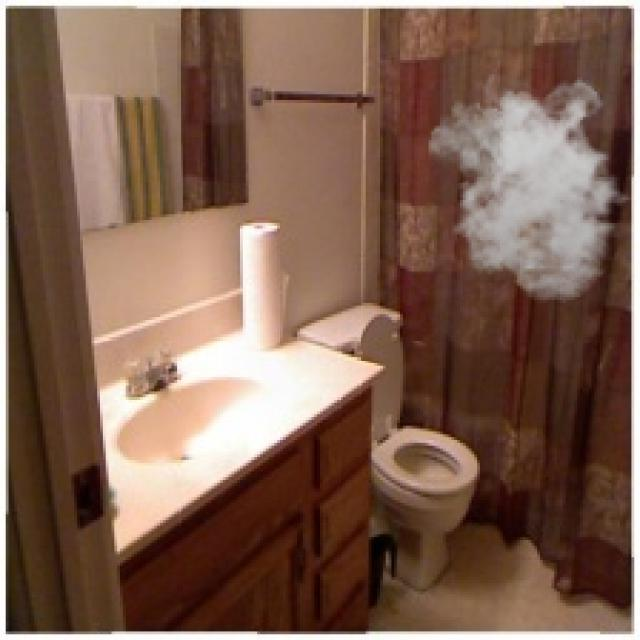Smoke: (428, 74, 638, 306)
